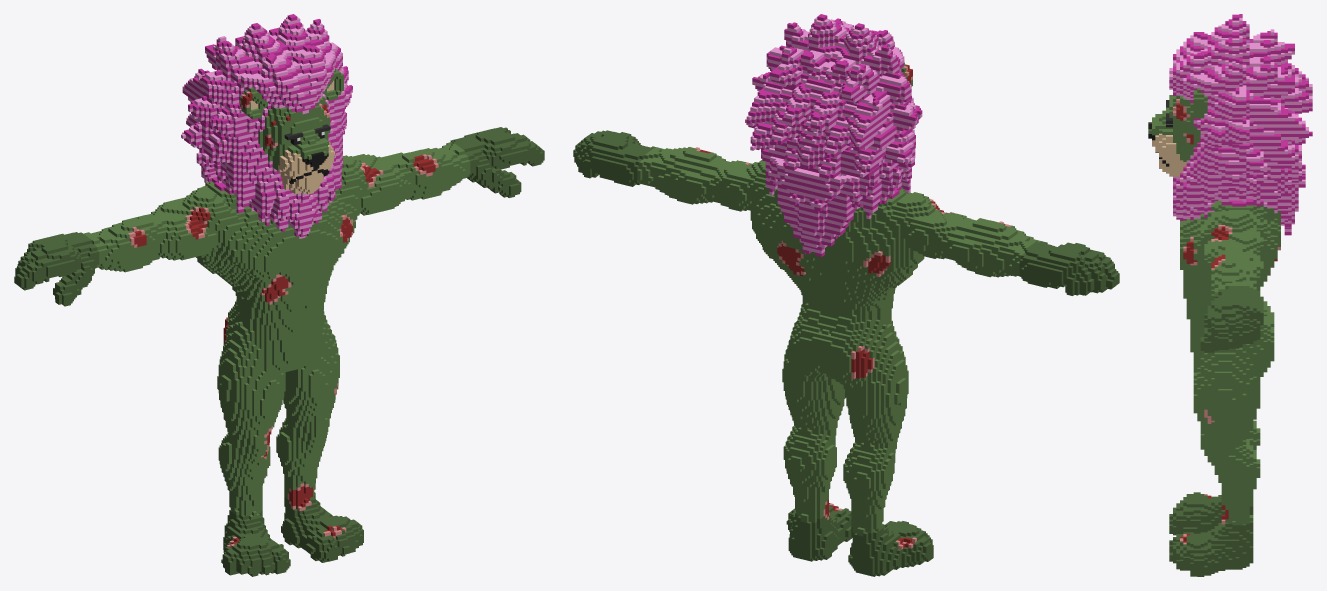
The model's file is 106-C0NZUKo6.glb.
The picture shows the model from 3 angles, left to right: view 1: azimuth 30°, elevation 25°; view 2: azimuth 150°, elevation 25°; view 3: azimuth 270°, elevation 25°; orthographic projection. The views are drawn at different scales.
Visible parts, largest first — view 1: sad; view 2: sad; view 3: sad.
Part boxes in pixels (x1,y1,x2,y2): sad: [14, 14, 544, 576]; sad: [573, 14, 1119, 576]; sad: [1148, 14, 1312, 576].
Size of the model in its own units: 17.2 by 16.5 by 4.7.
Materials: 4 (4 with a texture image).
